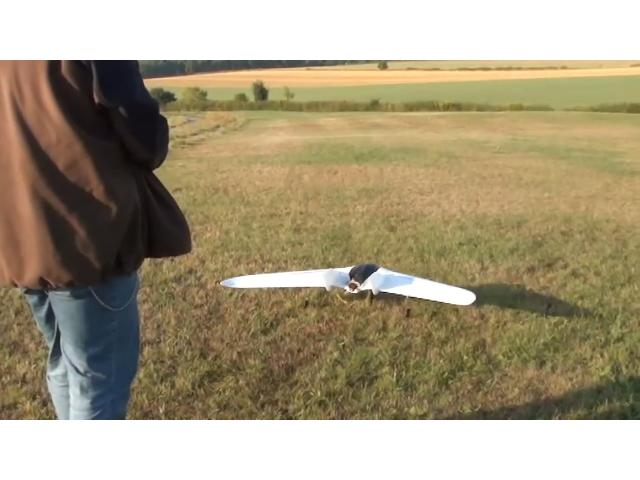Anti-Drone: (206, 241, 490, 329)
